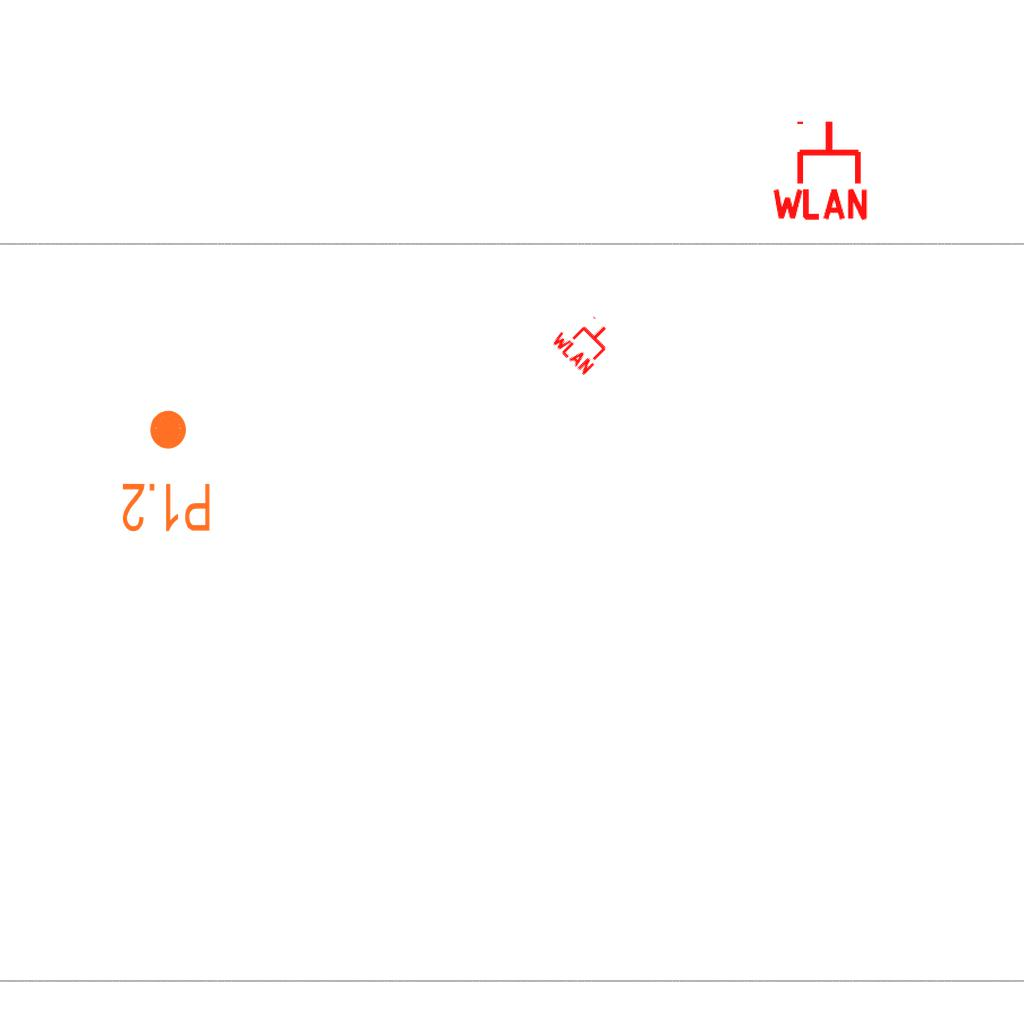Downlight_LED_Einbauleuchten_Flur: (120, 407, 213, 535)
WLAN: (768, 117, 872, 222), (548, 304, 622, 378)
